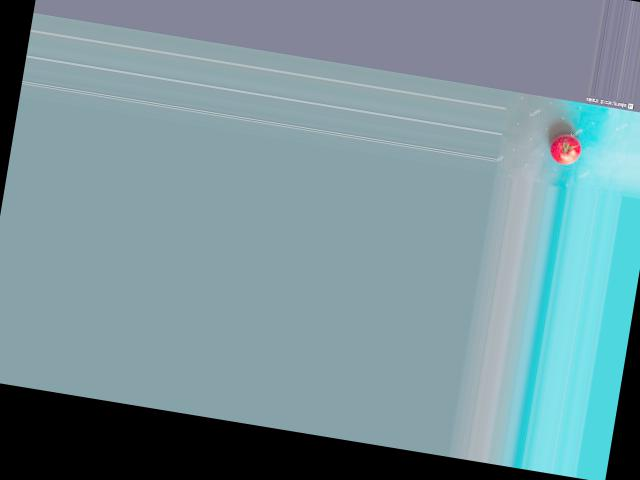tomato: (548, 131, 583, 166)
